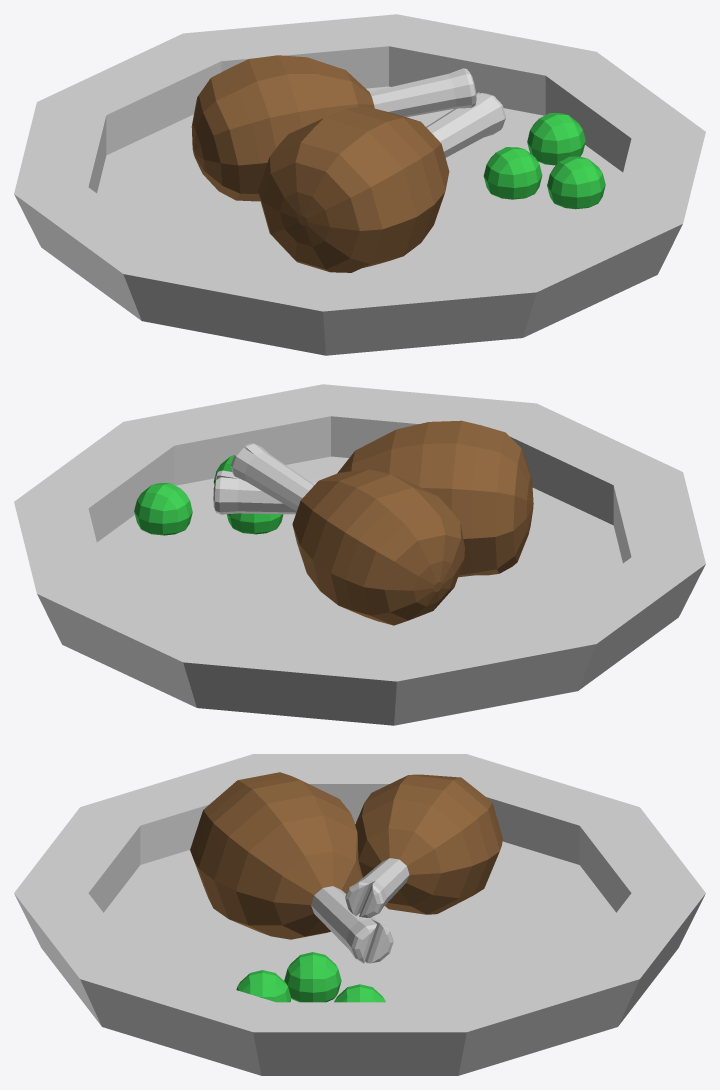
Rendered from food_plate.glb.
The picture shows the model from 3 angles, top to bottom: view 1: azimuth 30°, elevation 25°; view 2: azimuth 150°, elevation 25°; view 3: azimuth 270°, elevation 25°; orthographic projection. The views are drawn at different scales.
Visible parts, largest first — view 1: food_plate; view 2: food_plate; view 3: food_plate.
Part boxes in pixels (x1,y1,x2,y2): food_plate: [14, 14, 705, 355]; food_plate: [14, 384, 705, 725]; food_plate: [14, 754, 705, 1075].
Bounding box in the file's own units: 0.1964 × 0.0458 × 0.2065.
Materials: 1 (1 with a texture image).
